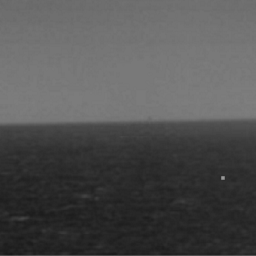Target: (219, 174, 226, 182)
